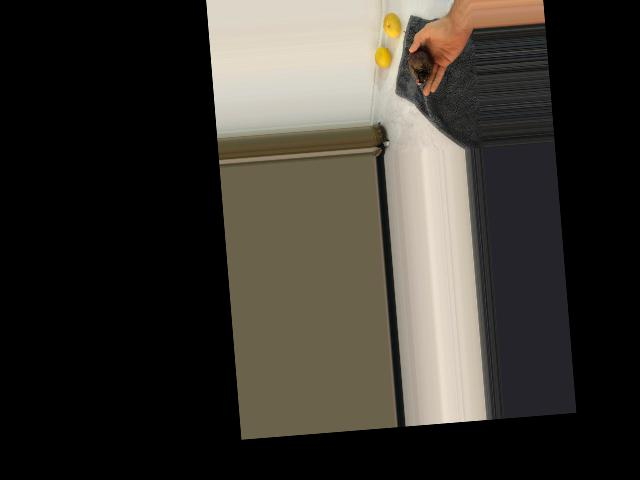beet: (403, 28, 435, 84)
